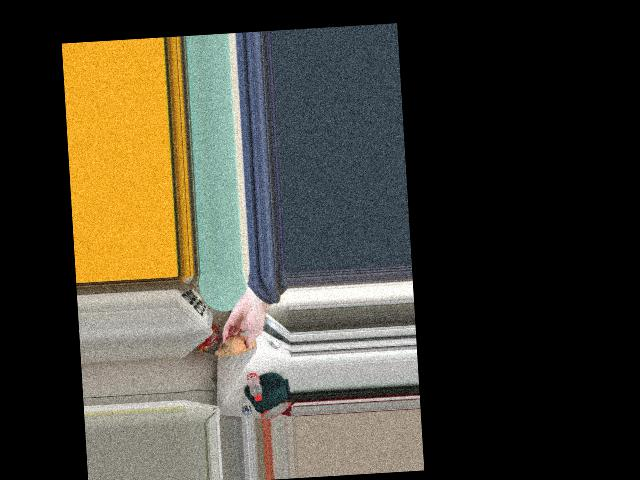sweet_potato: (222, 336, 254, 356)
